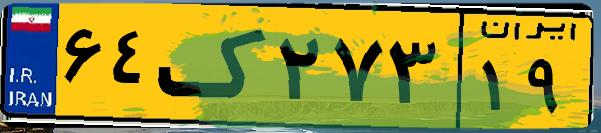1: (475, 38, 525, 113)
2: (270, 28, 330, 110)
3: (385, 28, 445, 110)
4: (110, 28, 158, 98)
6: (57, 26, 110, 100)
7: (330, 28, 385, 110)
9: (525, 38, 570, 115)
ک: (158, 12, 270, 120)
